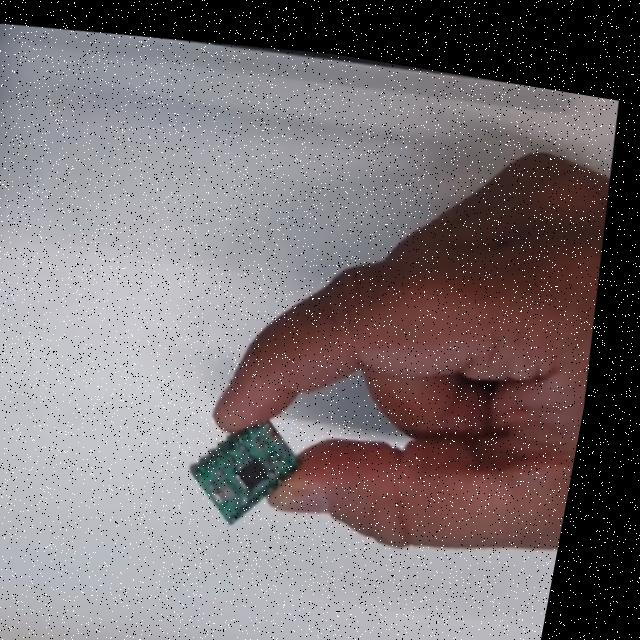Chip: (175, 405, 313, 542)
